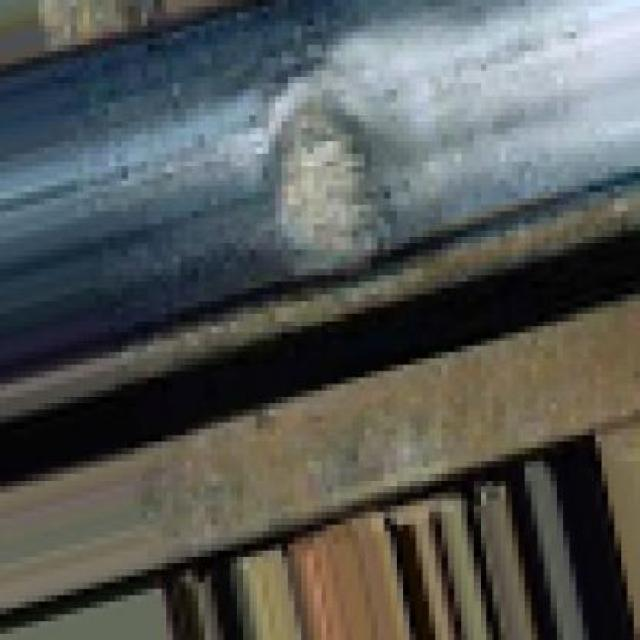defective: (129, 22, 445, 312)
